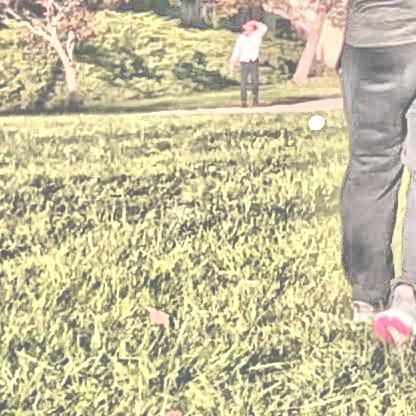golfball: (305, 111, 322, 126)
